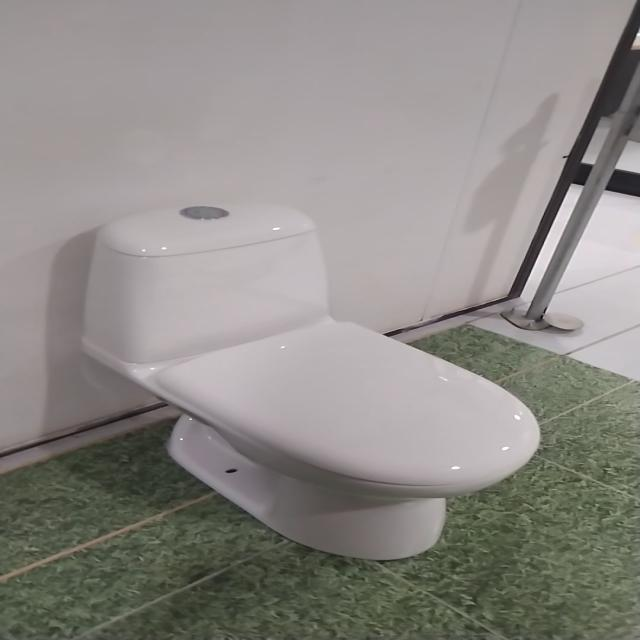toilet: (79, 201, 541, 561)
